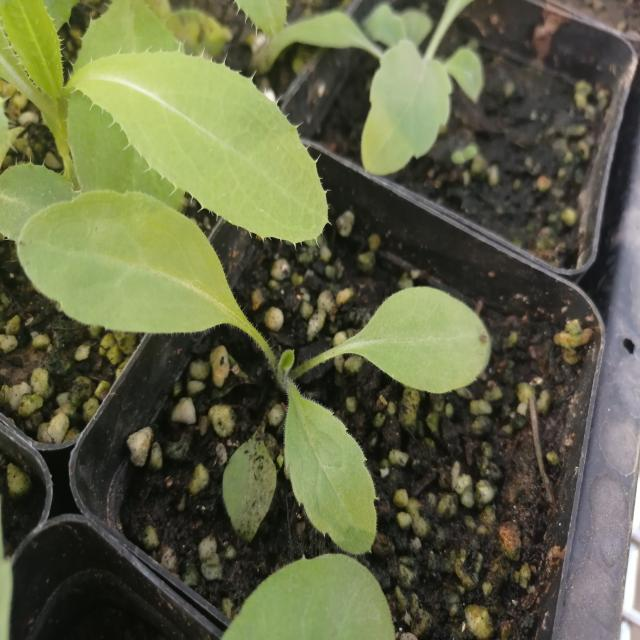horseweed: (9, 190, 482, 530)
